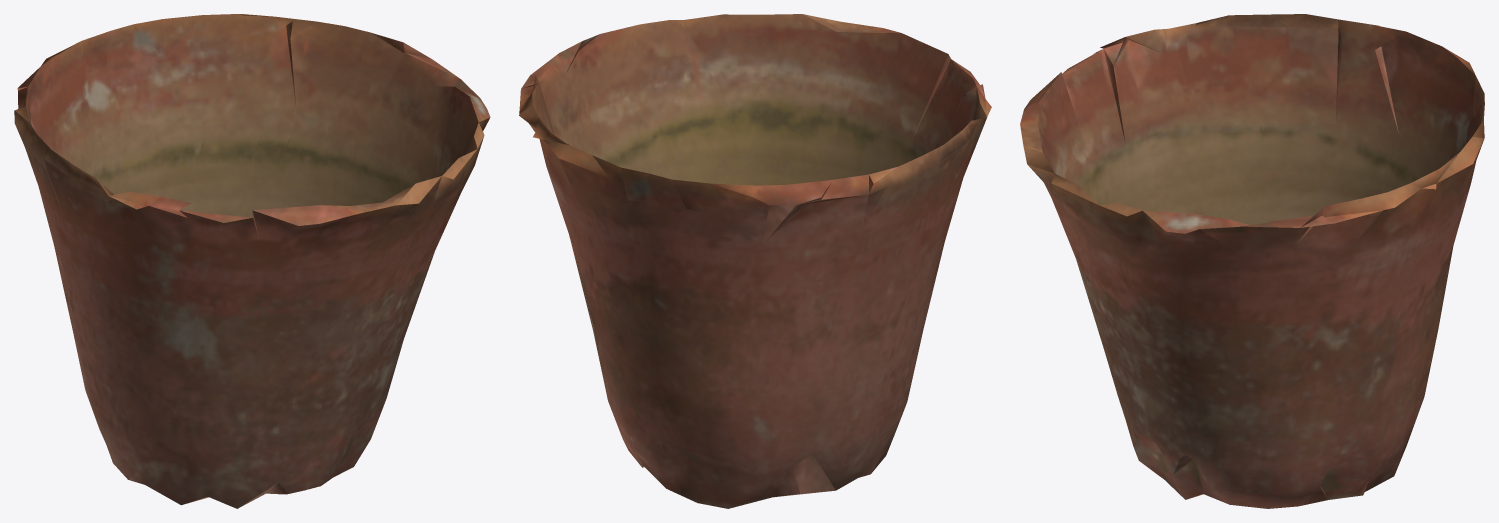
File: planter_clay.glb
3 views of the same model, side by side, from view 1: azimuth 30°, elevation 25°; view 2: azimuth 150°, elevation 25°; view 3: azimuth 270°, elevation 25° (orthographic).
Parts seen in each view (by area): view 1: mesh; view 2: mesh; view 3: mesh.
Boxes of the visible parts, x1,y1,x2,y2 form: mesh: (14,14,490,508); mesh: (519,14,991,508); mesh: (1020,14,1484,508).
Size of the model in its own units: 0.2578 by 0.2219 by 0.2558.
Materials: 1 (1 with a texture image).
